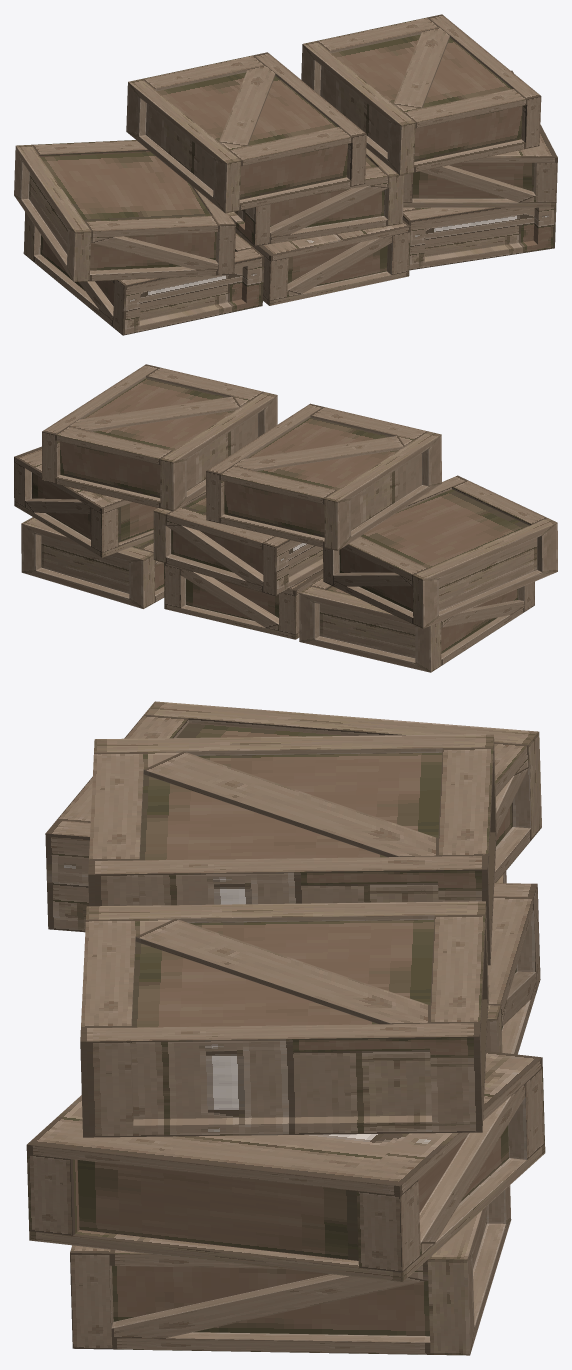
The model's file is stackofboxes_lev1.glb.
3 views of the same model, one above another, from view 1: azimuth 30°, elevation 25°; view 2: azimuth 150°, elevation 25°; view 3: azimuth 270°, elevation 25° (orthographic). The views are drawn at different scales.
Parts seen in each view (by area): view 1: stackofboxes_lev1; view 2: stackofboxes_lev1; view 3: stackofboxes_lev1.
Part boxes in pixels (x1,y1,x2,y2): stackofboxes_lev1: (14,14,557,335); stackofboxes_lev1: (14,364,557,672); stackofboxes_lev1: (26,701,545,1355).
Bounding box in the file's own units: 20.15 × 6.29 × 9.36.
1 material, 1 textured.
